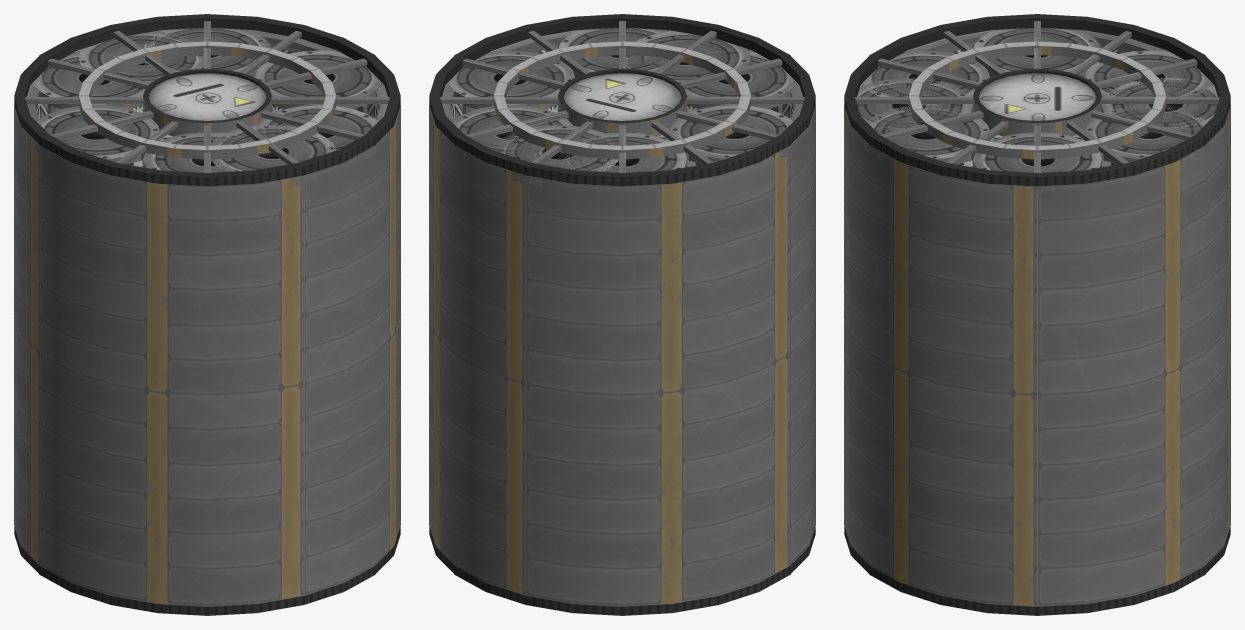
Rendered from LongInterstageAdapter2.FBX.
3 views of the same model, side by side, from view 1: azimuth 30°, elevation 25°; view 2: azimuth 150°, elevation 25°; view 3: azimuth 270°, elevation 25° (orthographic).
Visible parts, largest first — view 1: ShroudTube, Upper Support Ring, SingleEngineFrame001, ThrusterPlate, LowerSupportRing, ThrusterPlate011, ThrusterPlate009, ThrusterPlate010, ThrusterPlate008, ThrusterPlate003, ThrusterPlate006, ThrusterPlate002 (+9 smaller); view 2: ShroudTube, Upper Support Ring, SingleEngineFrame001, ThrusterPlate, LowerSupportRing, ThrusterPlate011, ThrusterPlate012, ThrusterPlate008, ThrusterPlate010, ThrusterPlate002, ThrusterPlate003, ThrusterPlate005 (+9 smaller); view 3: ShroudTube, Upper Support Ring, SingleEngineFrame001, ThrusterPlate, LowerSupportRing, ThrusterPlate006, ThrusterPlate002, ThrusterPlate008, ThrusterPlate010, ThrusterPlate003, ThrusterPlate005, ThrusterPlate011 (+9 smaller).
Boxes of the visible parts, x1,y1,x2,y2 form: ShroudTube: [14, 30, 400, 606]; Upper Support Ring: [14, 14, 400, 186]; SingleEngineFrame001: [78, 41, 336, 159]; ThrusterPlate: [143, 68, 271, 136]; LowerSupportRing: [14, 526, 400, 615]; ThrusterPlate011: [255, 50, 381, 109]; ThrusterPlate009: [37, 105, 160, 164]; ThrusterPlate010: [211, 125, 335, 186]; ThrusterPlate008: [79, 31, 203, 82]; ThrusterPlate003: [33, 51, 159, 109]; ThrusterPlate006: [255, 105, 381, 159]; ThrusterPlate002: [143, 28, 271, 77]; ShroudTube: [429, 30, 815, 606]; Upper Support Ring: [429, 14, 815, 186]; SingleEngineFrame001: [493, 41, 751, 159]; ThrusterPlate: [558, 68, 686, 136]; LowerSupportRing: [429, 526, 815, 615]; ThrusterPlate011: [448, 50, 574, 109]; ThrusterPlate012: [669, 105, 796, 164]; ThrusterPlate008: [494, 125, 618, 186]; ThrusterPlate010: [626, 31, 751, 82]; ThrusterPlate002: [449, 105, 573, 159]; ThrusterPlate003: [558, 132, 686, 195]; ThrusterPlate005: [670, 51, 796, 109]; ShroudTube: [844, 30, 1230, 606]; Upper Support Ring: [844, 14, 1230, 186]; SingleEngineFrame001: [908, 41, 1166, 159]; ThrusterPlate: [973, 68, 1101, 136]; LowerSupportRing: [844, 526, 1230, 615]; ThrusterPlate006: [863, 105, 990, 164]; ThrusterPlate002: [1084, 105, 1211, 164]; ThrusterPlate008: [1102, 78, 1230, 131]; ThrusterPlate010: [844, 78, 972, 131]; ThrusterPlate003: [1085, 50, 1211, 104]; ThrusterPlate005: [863, 50, 989, 104]; ThrusterPlate011: [973, 132, 1101, 195].
Size of what is drawn, in the model's own units: 1.88 by 2.35 by 1.88.
